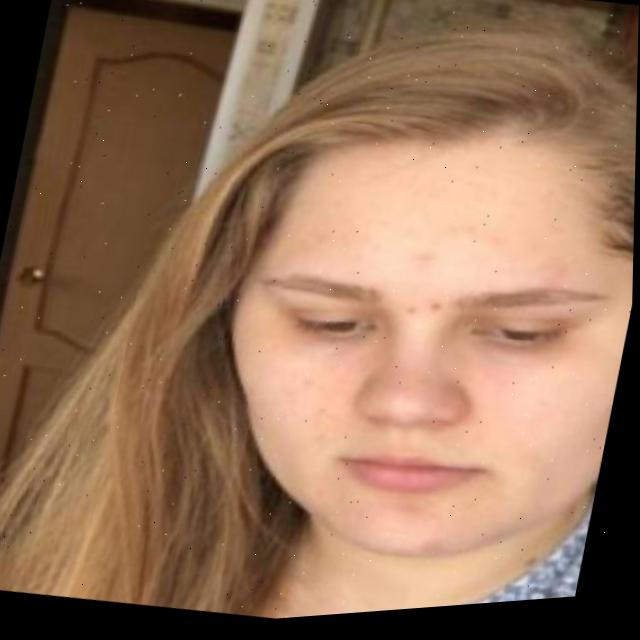Acne: (392, 201, 610, 339)
